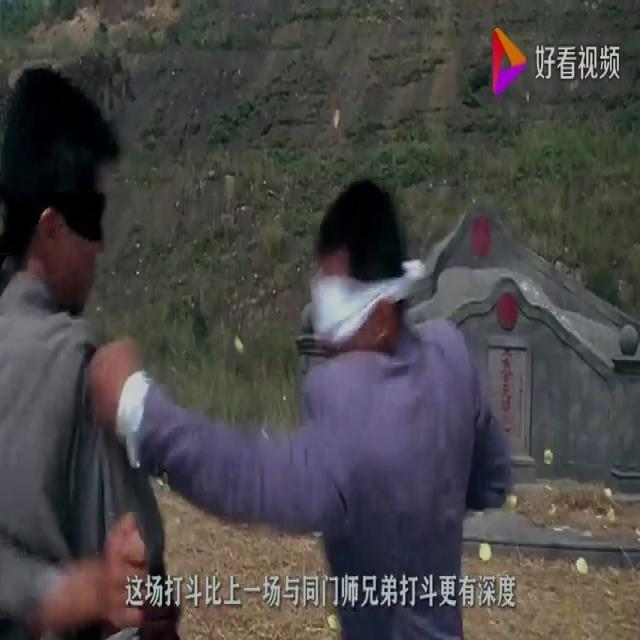non-fight: (0, 54, 515, 640)
